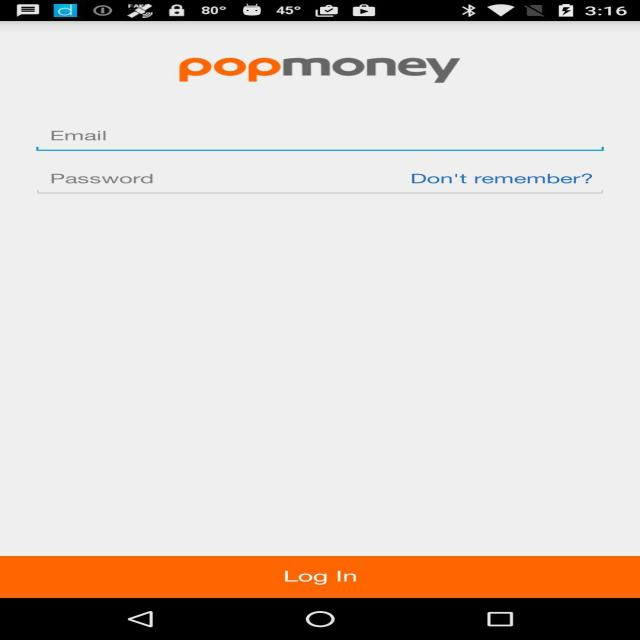button: (0, 555, 640, 599), (410, 168, 607, 194)
image: (129, 40, 534, 90)
text: (169, 47, 479, 85), (410, 170, 605, 192), (274, 563, 380, 593), (44, 165, 179, 188), (48, 128, 129, 144)
